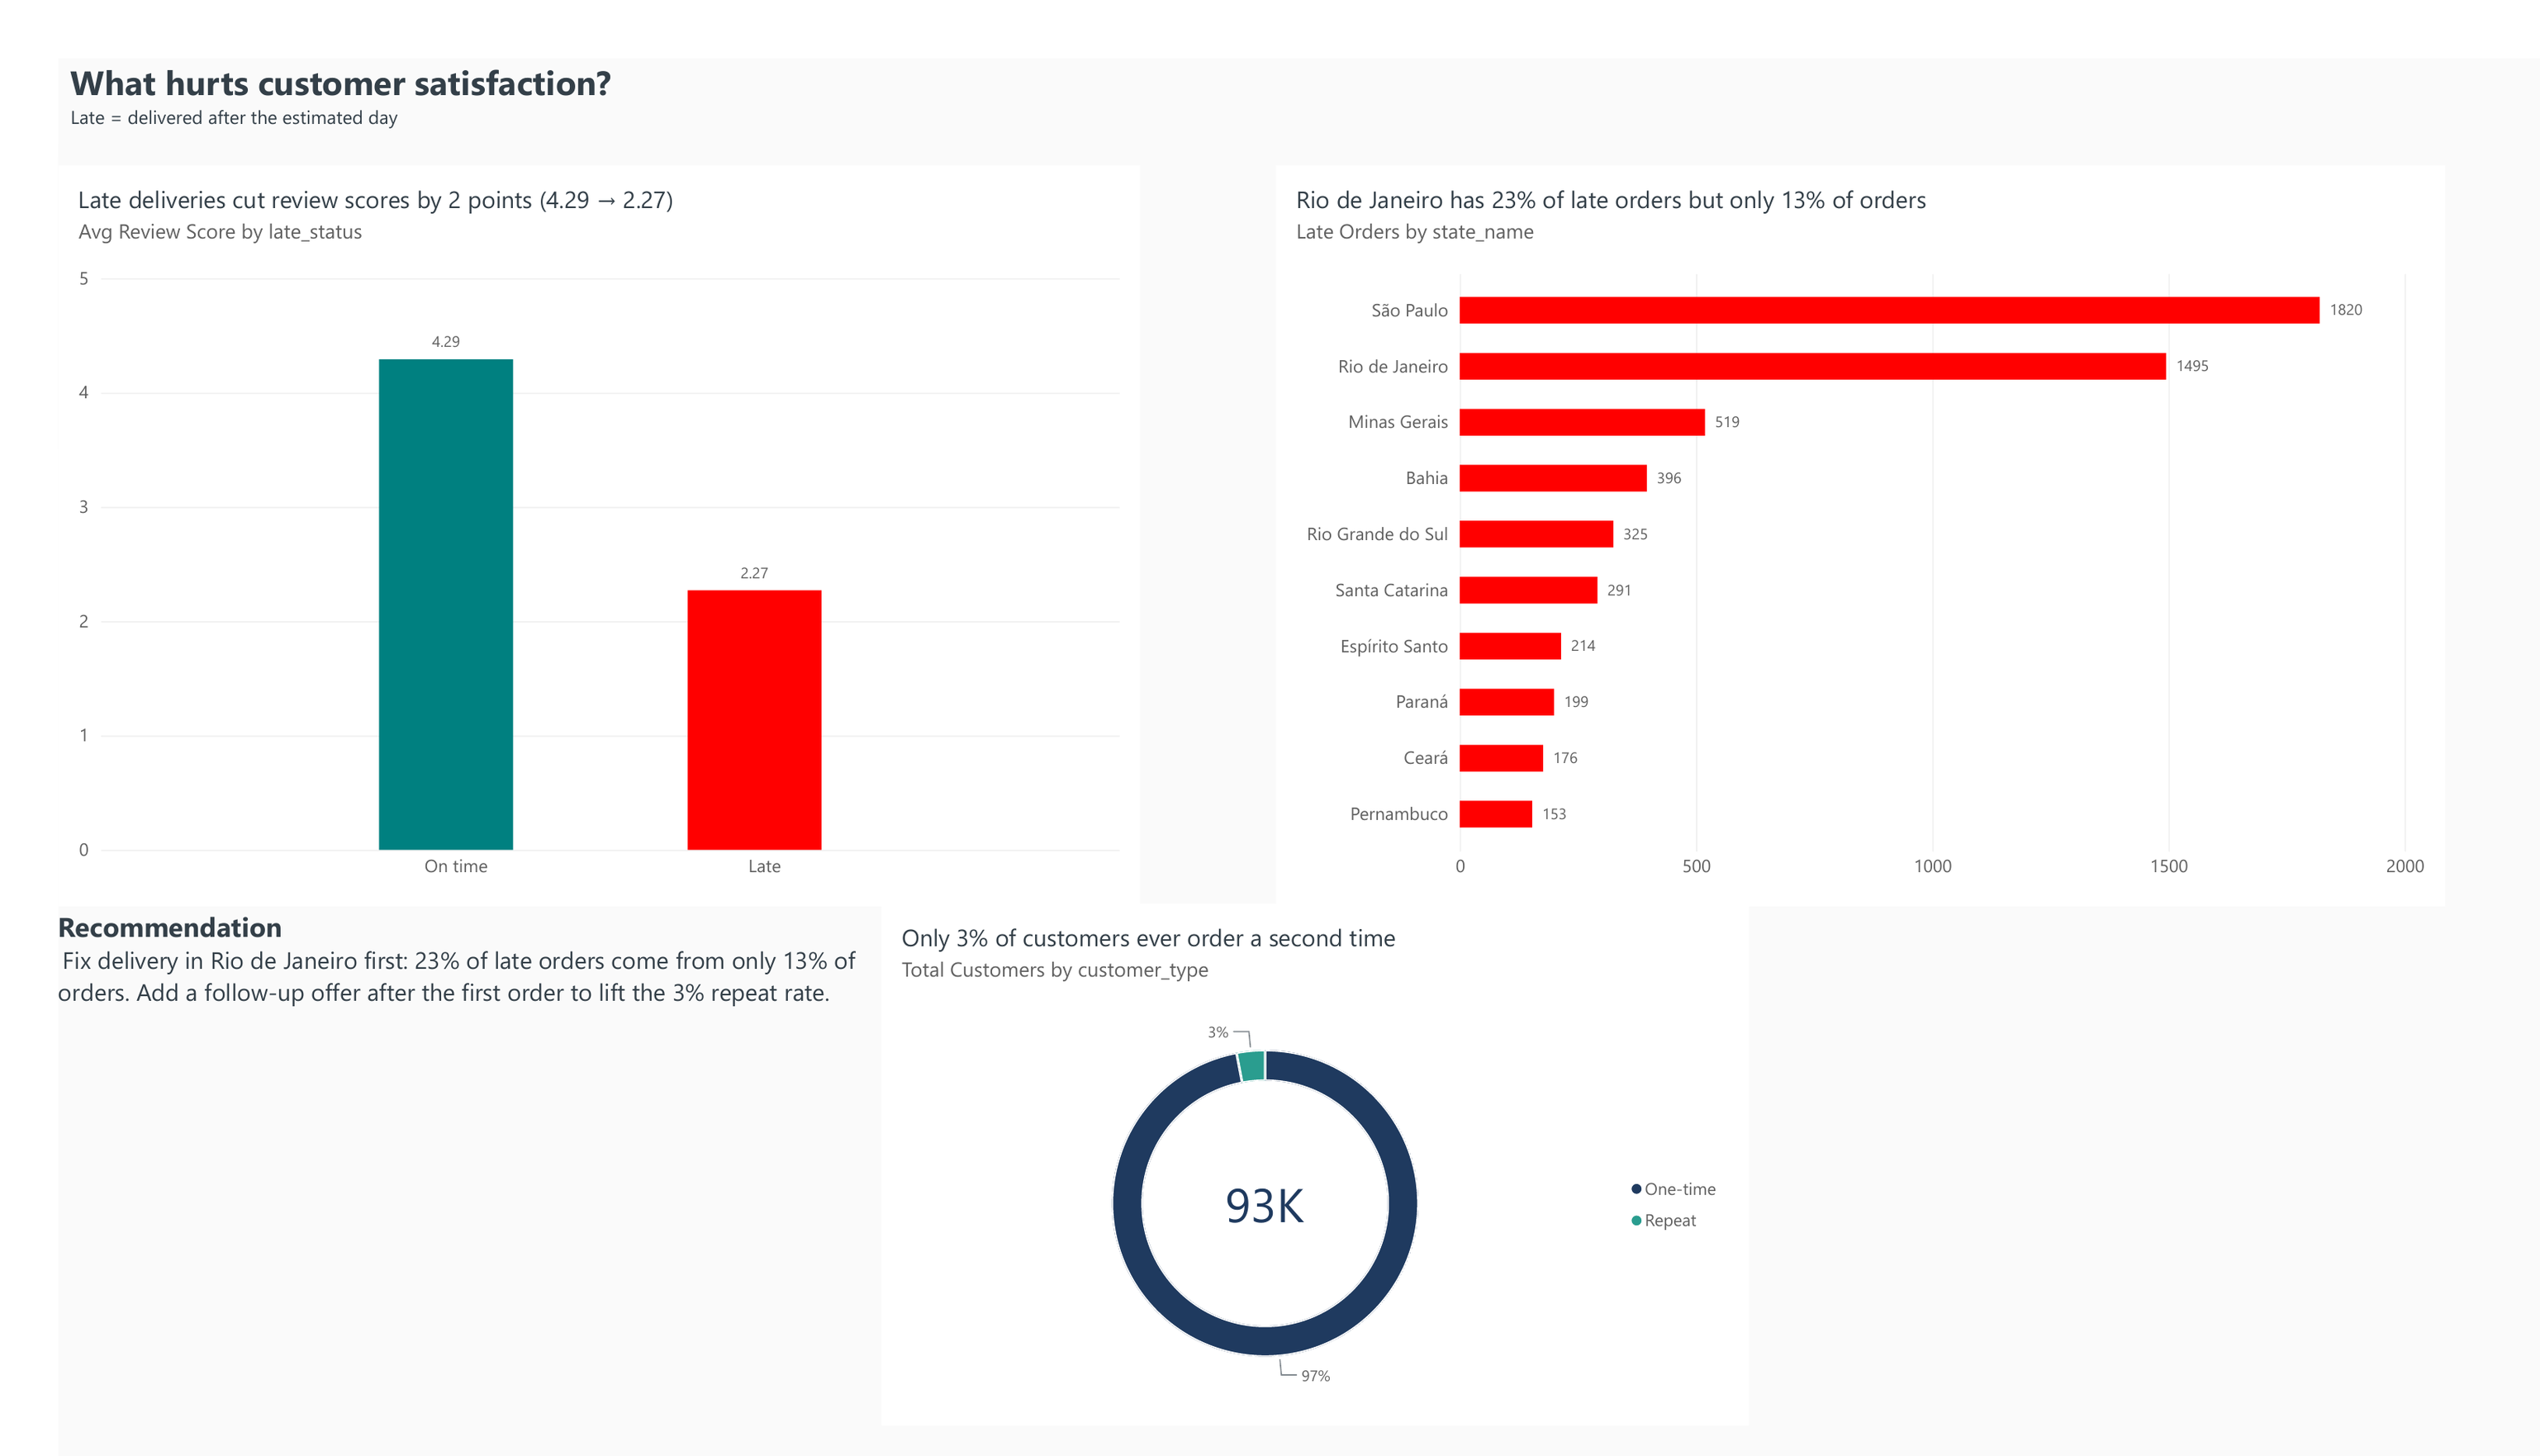

This screenshot's page, from the dashboard's own definition file:
{"tool":"powerbi","page":{"name":"Delivery & Reviews","canvas":[1920,1080],"ordinal":2},"visuals":[{"type":"textbox","box":[9.1,0,518.2,113.6],"z":0},{"type":"columnChart","title":"Late deliveries cut review scores by 2 points (4.29 → 2.27)","fields":{"Category":["fact_orders.late_status"],"Y":["_Measures.Avg Review Score"]},"box":[0,84.6,853.8,584.6],"z":1000},{"type":"clusteredBarChart","title":"Rio de Janeiro has 23% of late orders but only 13% of orders","fields":{"Category":["dim_state.state_name"],"Y":["_Measures.Late Orders"]},"box":[961.5,84.6,923.1,584.6],"z":2000},{"type":"donutChart","title":"Only 3% of customers ever order a second time","fields":{"Category":["dim_customer.customer_type"],"Y":["_Measures.Total Customers"]},"box":[650,667.6,684.6,411.5],"z":3000},{"type":"textbox","box":[0,670.6,650,408.8],"z":3001}]}

Visuals, with their boxes on the page's 1920x1080 design canvas (x1, y1, x2, y2). These are canvas units, not pixel positions in the 2540x1456 screenshot, which may show the page scaled, cropped or inside an application window:
textbox: {"x1": 9, "y1": 0, "x2": 527, "y2": 114}
"Late deliveries cut review scores by 2 points (4.29 → 2.27)" columnChart: {"x1": 0, "y1": 85, "x2": 854, "y2": 669}
"Rio de Janeiro has 23% of late orders but only 13% of orders" clusteredBarChart: {"x1": 962, "y1": 85, "x2": 1885, "y2": 669}
"Only 3% of customers ever order a second time" donutChart: {"x1": 650, "y1": 668, "x2": 1335, "y2": 1079}
textbox: {"x1": 0, "y1": 671, "x2": 650, "y2": 1079}
